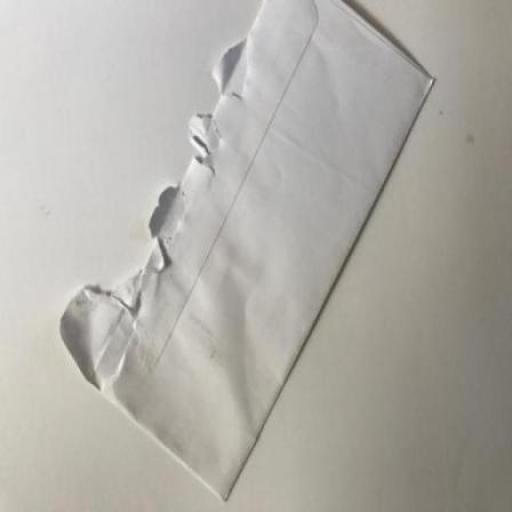paper: (24, 0, 504, 496)
